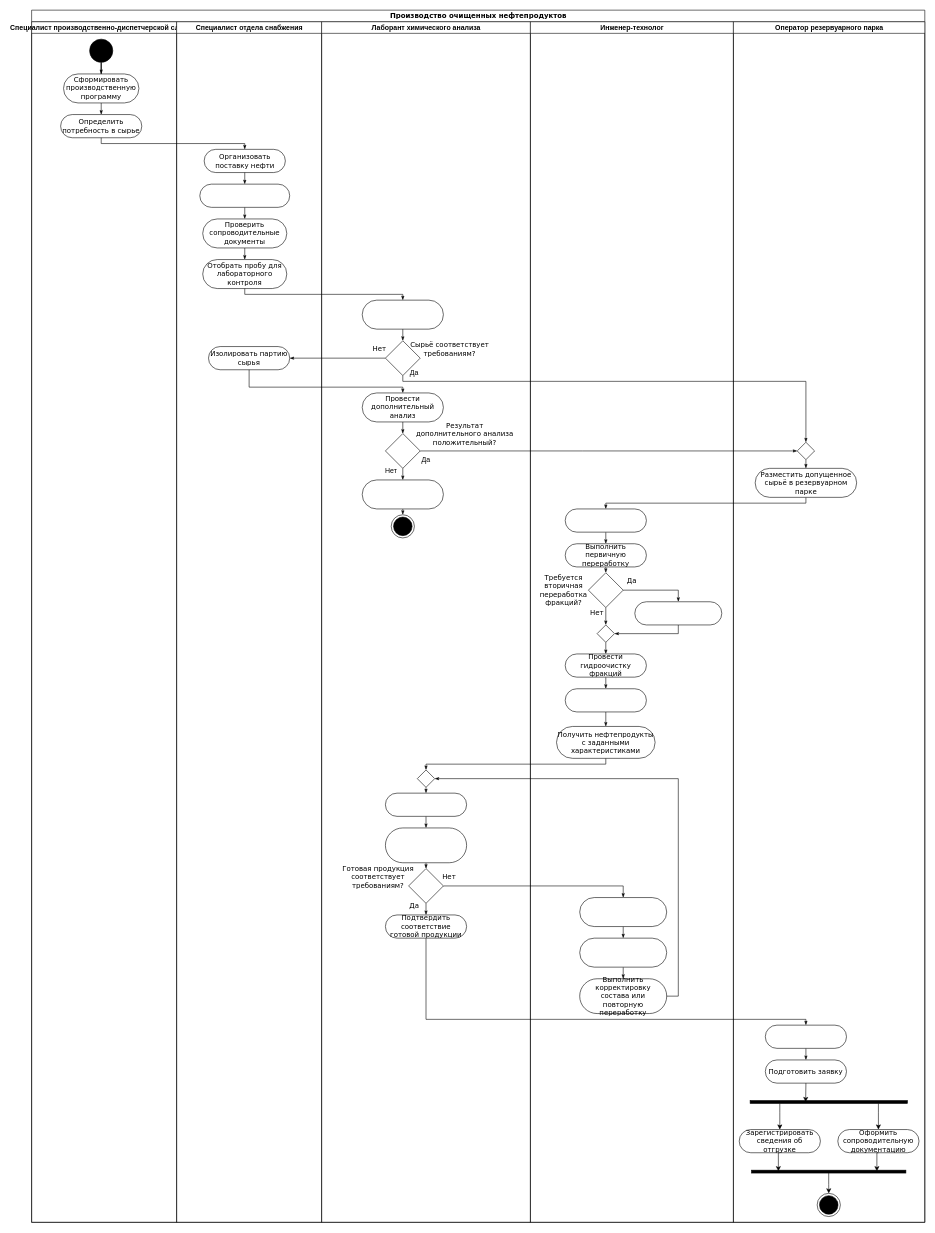
The diagram is 935 pixels wide and 1233 high, and some of its shapes have lost their labels. Each missing label, with the centre of its shape:
Выполнить вторичную переработку фракций: point 678,613
Выполнить компаундирование: point 605,700
Зарегистрировать заявку потребителя: point 806,1036
Зафиксировать недопуск партии сырья»: point 402,494
Определить корректирующие действия: point 623,952
Отобрать пробу готовой продукции: point 426,804
Подать нефть на установку подготовки: point 605,520
Принять поступившую партию нефти: point 244,195
Проанализировать причины несоответствия: point 623,912
Провести входной лабораторный контроль: point 402,314
Провести лабораторный контроль готовой продукции: point 426,845
